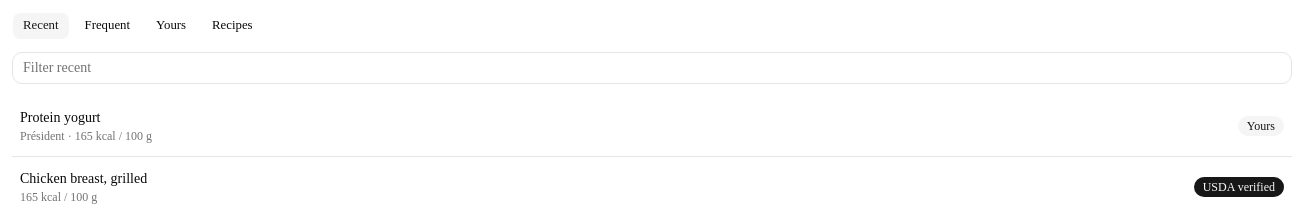
Test: MyFoods › narrows the list as you type, and says so when nothing is left
In the field named "Filter my foods": [652, 68] box left=12, top=52, right=1292, bottom=84, type "chicken"
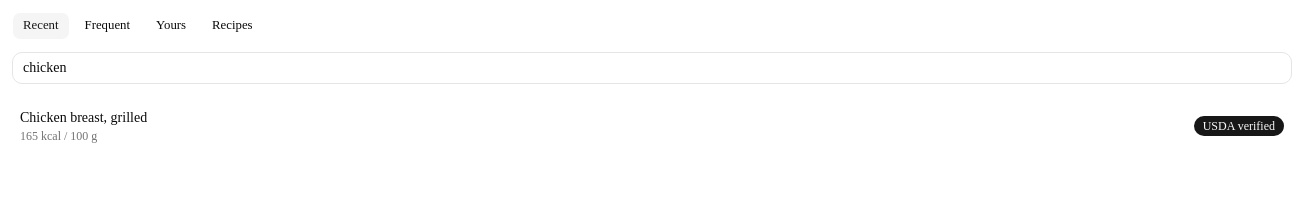
Check: the button "Chicken breast, grilled 165 kcal / 100 g USDA verified" is shown, box left=12, top=96, right=1292, bottom=156
Check: the button "Protein yogurt" is gone
Replace the text in the field named "Filter my foods" with "pizza": [652, 68] box left=12, top=52, right=1292, bottom=84
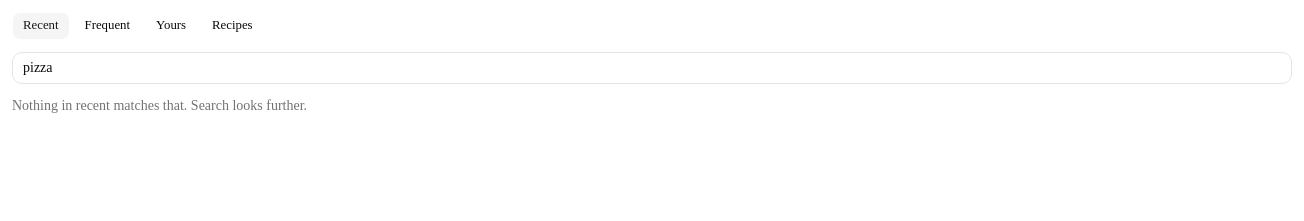
Check: the text "Nothing in recent matches that. Search looks further." is shown, box left=12, top=98, right=307, bottom=113
